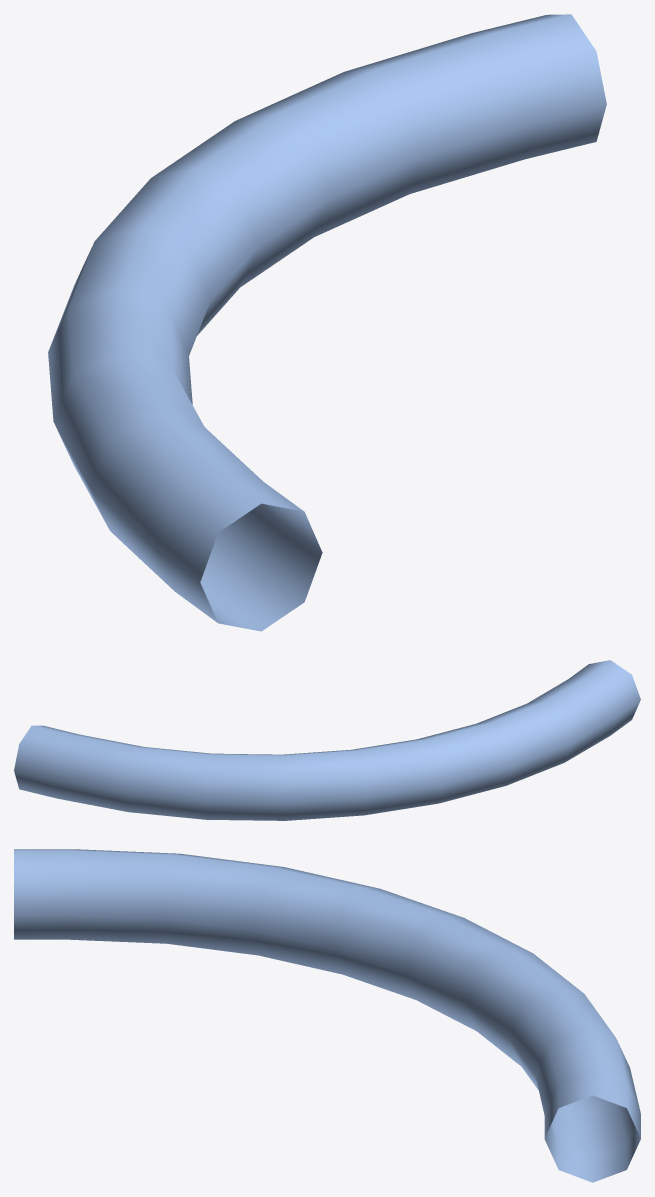
File: PipeSmall_Bent_06.fbx
3 views of the same model, one above another, from view 1: azimuth 30°, elevation 25°; view 2: azimuth 150°, elevation 25°; view 3: azimuth 270°, elevation 25° (orthographic). The views are drawn at different scales.
Parts seen in each view (by area): view 1: PipeSmall_Bent_06.001; view 2: PipeSmall_Bent_06.001; view 3: PipeSmall_Bent_06.001.
Part boxes in pixels (<box>): PipeSmall_Bent_06.001: <box>48,14,606,631</box>; PipeSmall_Bent_06.001: <box>14,660,640,820</box>; PipeSmall_Bent_06.001: <box>14,849,640,1182</box>.
Bounding box in the file's own units: 0.65 × 0.1 × 0.65.
